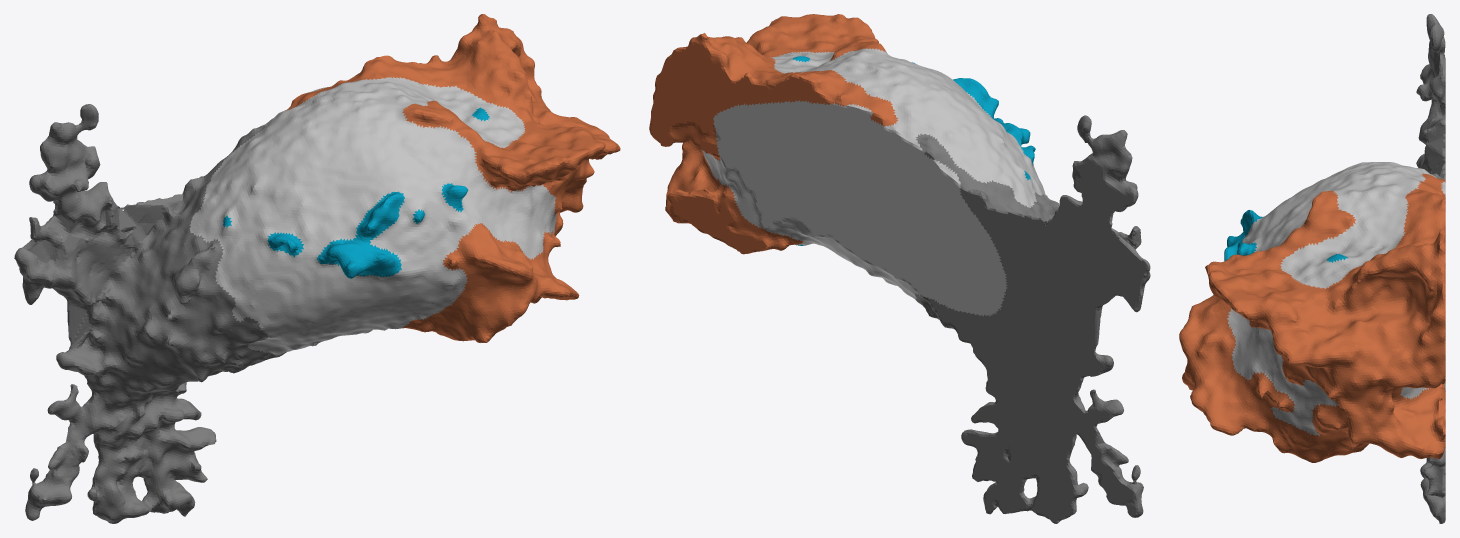
The picture shows the model from 3 angles, left to right: view 1: azimuth 30°, elevation 25°; view 2: azimuth 150°, elevation 25°; view 3: azimuth 270°, elevation 25°; orthographic projection. The views are drawn at different scales.
Bounding box in the file's own units: 182 × 143 × 76.93.
